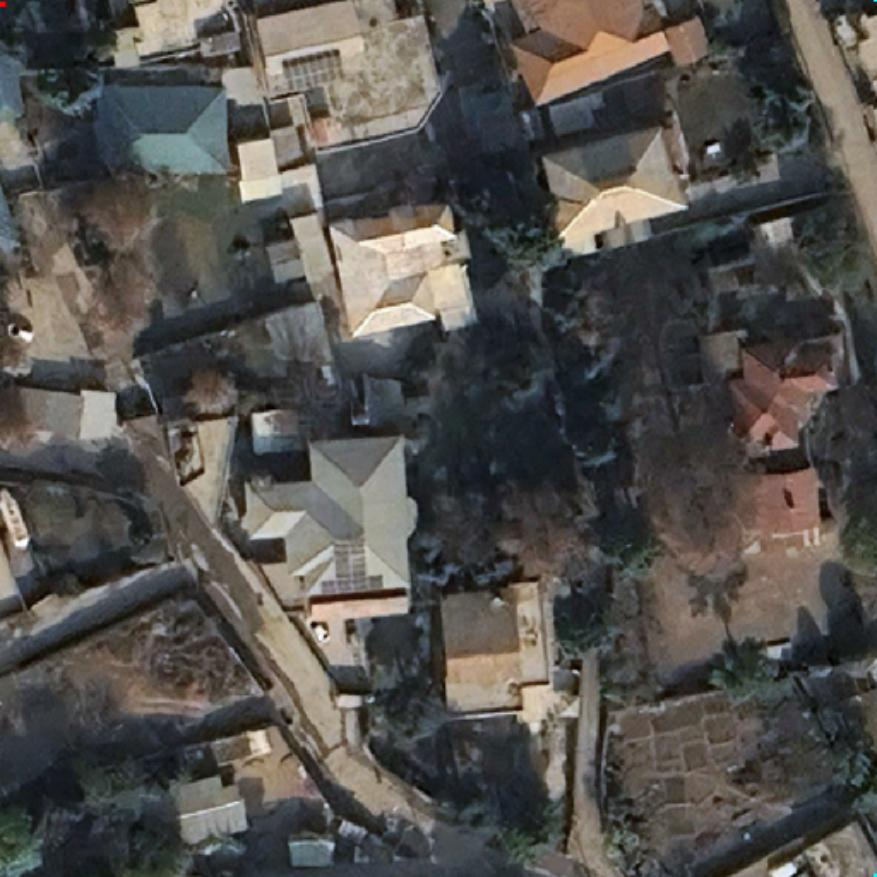Solarpanel: (278, 50, 346, 94), (332, 538, 368, 590)
